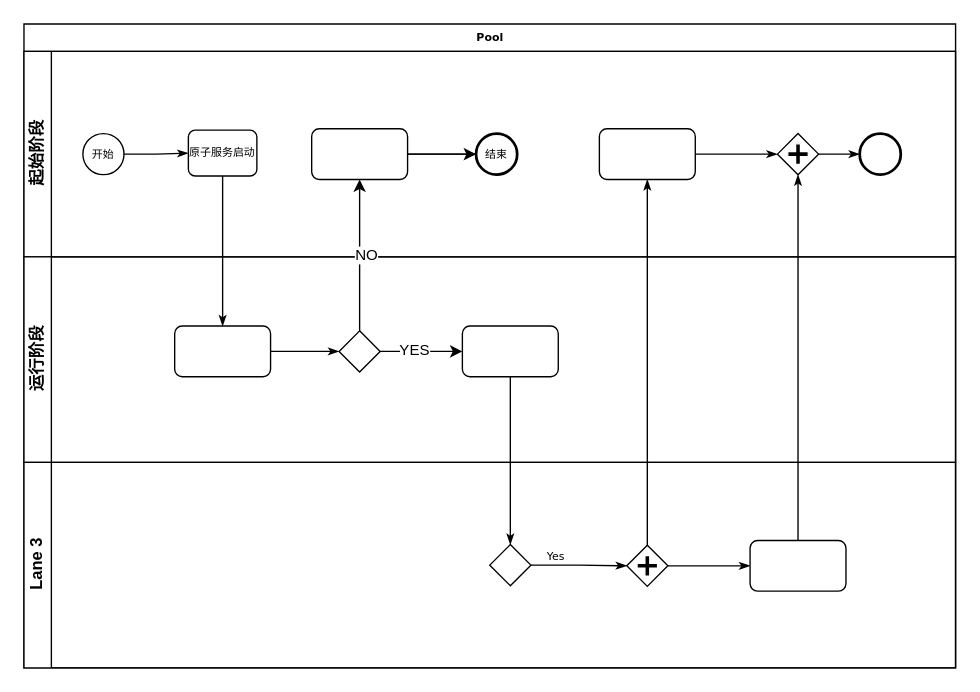
Image size: 980x692. Some labels were removed from this diagram. The centre of each missing label's shape, as x and y in pixels:
"未获取到配置" belongs at (359,153).
"获取到配置" belongs at (509,351).
"配置拉取" belongs at (222,351).
